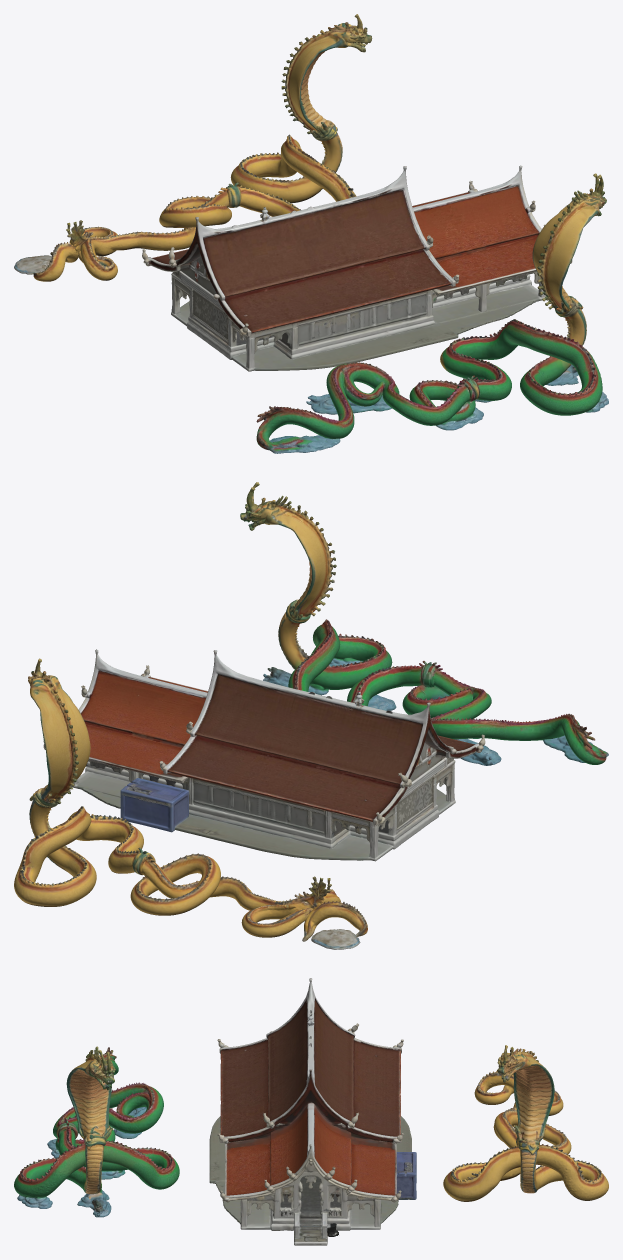
Rendered from temple6.glb.
3 renders of one model, top to bottom at view 1: azimuth 30°, elevation 25°; view 2: azimuth 150°, elevation 25°; view 3: azimuth 270°, elevation 25°, orthographic. The views are drawn at different scales.
Parts seen in each view (by area): view 1: tripo_node_113b317e-1efe-47e6-b949-d6a4899dccd2; view 2: tripo_node_113b317e-1efe-47e6-b949-d6a4899dccd2; view 3: tripo_node_113b317e-1efe-47e6-b949-d6a4899dccd2.
Part boxes in pixels (x1=…): tripo_node_113b317e-1efe-47e6-b949-d6a4899dccd2: x1=14, y1=14, x2=608, y2=453; tripo_node_113b317e-1efe-47e6-b949-d6a4899dccd2: x1=14, y1=482, x2=608, y2=949; tripo_node_113b317e-1efe-47e6-b949-d6a4899dccd2: x1=14, y1=978, x2=608, y2=1245.
Size of the model in its own units: 0.6858 by 0.3126 by 0.9801.
Materials: 1 (1 with a texture image).
